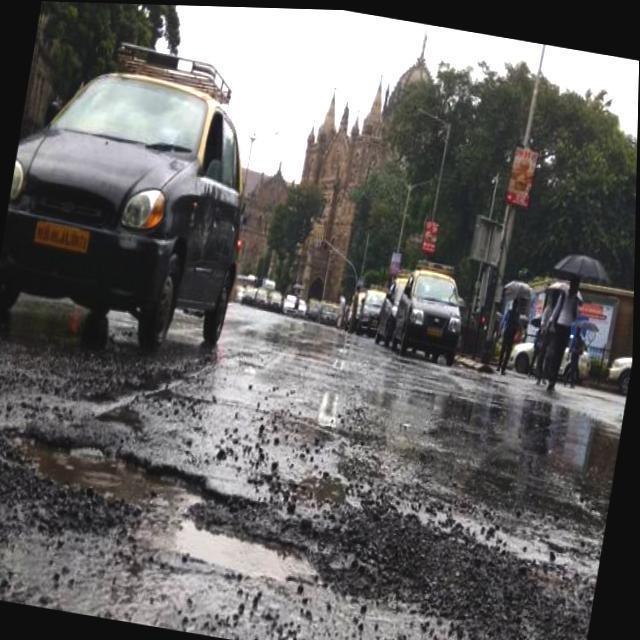Pothole: (11, 427, 335, 577)
